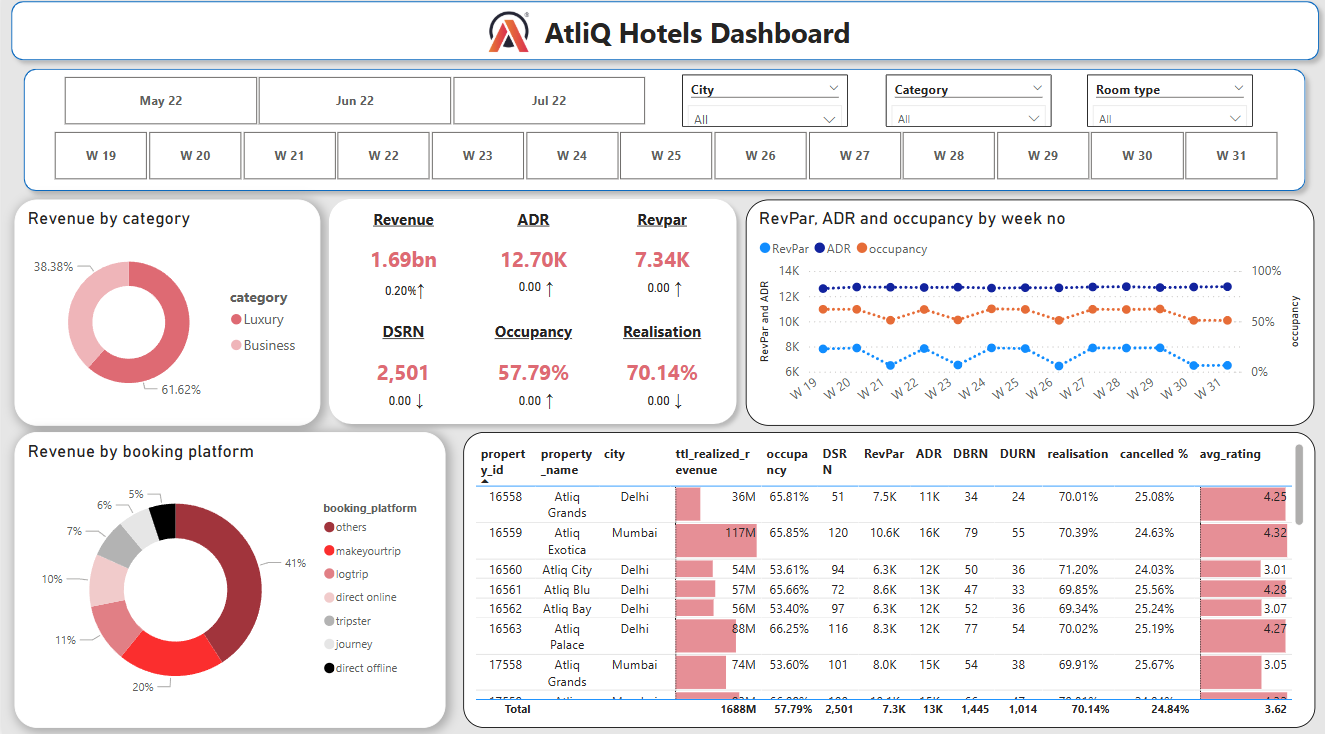

The page's visual inventory and layout, read from the dashboard file:
{"tool":"powerbi","page":{"name":"Page 1","canvas":[1280,720],"ordinal":0},"visuals":[{"type":"shape","box":[0,0,1280,74.8],"z":0},{"type":"shape","box":[12,65.1,1255,136],"z":0,"group":"g2"},{"type":"shape","box":[306.4,191,411.4,235.2],"z":0,"group":"g11"},{"type":"tableEx","fields":{"Values":["dim_hotels.property_id","dim_hotels.property_name","dim_hotels.city","fact_bookings.ttl_realized_revenue","fact_aggregated_bookings.occupancy %","fact_aggregated_bookings.DSRN","fact_bookings.RevPar","fact_bookings.ADR","fact_bookings.DBRN","fact_bookings.DURN","fact_bookings.realisation %","fact_bookings.cancelled %"]},"box":[445.2,425,822.8,285.9],"z":1000},{"type":"group","id":"g1","title":"Group 4","box":[445.2,12.7,389.6,49.4],"z":2000},{"type":"image","box":[445.2,12.7,88.3,49.4],"z":3000,"group":"g1"},{"type":"group","id":"g2","title":"Group 3","box":[12,65.1,1255.9,135.1],"z":3000},{"type":"slicer","fields":{"Values":["dim_hotels.city"]},"box":[656.5,80.1,160,50],"z":4000,"group":"g2"},{"type":"donutChart","title":"Revenue by category","fields":{"Y":["fact_bookings.ttl_realized_revenue"],"Category":["dim_hotels.category"]},"box":[11.7,200,295,218.3],"z":4000},{"type":"textbox","box":[523.7,20.3,311.1,35.8],"z":4001,"group":"g1"},{"type":"slicer","fields":{"Values":["dim_hotels.category"]},"box":[852.5,80.1,160,50],"z":5000,"group":"g2"},{"type":"card","title":"ADR","fields":{"Values":["fact_bookings.ADR"]},"box":[454.5,208.9,116.1,87.2],"z":5000,"group":"g15"},{"type":"card","title":"Revenue","fields":{"Values":["fact_bookings.ttl_realized_revenue"]},"box":[329.2,209.1,116.3,87.2],"z":5000,"group":"g9"},{"type":"card","title":"Revpar","fields":{"Values":["fact_bookings.RevPar"]},"box":[578.9,209.4,116.1,87.2],"z":5000,"group":"g10"},{"type":"card","title":"DSRN","fields":{"Values":["fact_aggregated_bookings.DSRN"]},"box":[329.2,317.5,116.1,87.2],"z":5000,"group":"g13"},{"type":"card","title":"Occupancy","fields":{"Values":["fact_aggregated_bookings.occupancy %"]},"box":[454.6,317.5,116.1,87.2],"z":5000,"group":"g14"},{"type":"card","title":"Realisation","fields":{"Values":["fact_bookings.realisation %"]},"box":[578.9,317.5,116.1,87.2],"z":5000,"group":"g16"},{"type":"donutChart","title":"Revenue by booking platform","fields":{"Y":["fact_bookings.ttl_realized_revenue"],"Category":["fact_bookings.booking_platform"]},"box":[12.1,425,416.2,285.9],"z":5000},{"type":"group","id":"g3","title":"Group 2","box":[306.4,191,411.4,235.3],"z":6000},{"type":"group","id":"g4","title":"Group 1","box":[613.6,276.4,43.5,20.2],"z":6000,"group":"g10"},{"type":"group","id":"g5","title":"Group 1","box":[365.1,278.7,43.5,20.2],"z":6000,"group":"g9"},{"type":"group","id":"g6","title":"Group 1","box":[363.9,384.5,43.5,20.2],"z":6000,"group":"g13"},{"type":"group","id":"g7","title":"Group 1","box":[489.3,384.5,43.5,20.2],"z":6000,"group":"g14"},{"type":"group","id":"g8","title":"Group 1","box":[613.6,384.5,43.5,20.2],"z":6000,"group":"g16"},{"type":"group","id":"g9","title":"Group 5","box":[329.2,209.1,116.3,89.8],"z":6002,"group":"g12"},{"type":"slicer","fields":{"Values":["dim_rooms.room_id"]},"box":[1047.5,80.1,160,50],"z":7000,"group":"g2"},{"type":"group","id":"g10","title":"Group 5","box":[578.9,209.4,116.1,87.2],"z":7000,"group":"g12"},{"type":"card","fields":{"Values":["fact_bookings.ADR WoW %"]},"box":[489.2,276.5,39.1,19.7],"z":7000,"group":"g15"},{"type":"card","fields":{"Values":["fact_bookings.RevPar_WoW_%"]},"box":[613.6,277.1,39.1,19.7],"z":7000,"group":"g4"},{"type":"card","fields":{"Values":["fact_bookings.revenue_change_WoW"]},"box":[365.1,279.4,39.1,19.7],"z":7000,"group":"g5"},{"type":"card","fields":{"Values":["fact_aggregated_bookings.DSRN_WoW_%"]},"box":[363.9,385.2,39.1,19.7],"z":7000,"group":"g6"},{"type":"card","fields":{"Values":["fact_aggregated_bookings.occupancy_WoW_%"]},"box":[489.3,385.2,39.1,19.7],"z":7000,"group":"g7"},{"type":"card","fields":{"Values":["fact_bookings.Realisation_WoW_%"]},"box":[613.6,385.2,39.1,19.7],"z":7000,"group":"g8"},{"type":"group","id":"g11","title":"Group 7","box":[306.4,191,411.4,235.2],"z":7001,"group":"g3"},{"type":"lineChart","fields":{"Category":["dim_date.week no"],"Y":["fact_bookings.RevPar","fact_bookings.ADR"],"Y2":["fact_aggregated_bookings.occupancy"]},"box":[717.8,200.3,548.9,218.4],"z":7001},{"type":"group","id":"g12","title":"Group 6","box":[329.2,208.9,365.8,195.8],"z":7001,"group":"g11"},{"type":"slicer","fields":{"Values":["dim_date.mmm yy"]},"box":[39.5,80.1,600,50],"z":8000,"group":"g2"},{"type":"card","fields":{"Values":["fact_bookings.KPI_ADR"]},"box":[523.4,275.9,9.6,20.3],"z":8000,"group":"g15"},{"type":"card","fields":{"Values":["fact_bookings.KPI_RevPar"]},"box":[647.8,276.4,9.6,20.3],"z":8000,"group":"g4"},{"type":"card","fields":{"Values":["fact_aggregated_bookings.KPI"]},"box":[399.3,278.7,9.6,20.3],"z":8000,"group":"g5"},{"type":"group","id":"g13","title":"Group 5","box":[329.2,317.5,116.1,87.2],"z":8000,"group":"g12"},{"type":"card","fields":{"Values":["fact_aggregated_bookings.KPI_DSRN"]},"box":[398.1,384.5,9.6,20.3],"z":8000,"group":"g6"},{"type":"card","fields":{"Values":["fact_aggregated_bookings.KPI_occupancy"]},"box":[523.5,384.5,9.6,20.3],"z":8000,"group":"g7"},{"type":"card","fields":{"Values":["fact_bookings.KPI_realisation"]},"box":[647.8,384.5,9.6,20.3],"z":8000,"group":"g8"},{"type":"slicer","fields":{"Values":["dim_date.week no"]},"box":[29.5,133.1,1220,50],"z":9000,"group":"g2"},{"type":"group","id":"g14","title":"Group 5","box":[454.6,317.5,116.1,87.2],"z":9000,"group":"g12"},{"type":"group","id":"g15","title":"Group 5","box":[454.5,208.9,116.1,87.3],"z":10000,"group":"g12"},{"type":"group","id":"g16","title":"Group 5","box":[578.9,317.5,116.1,87.2],"z":11000,"group":"g12"}]}

Visuals, with their boxes in screenshot pixels (x1, y1, x2, y2), scaled from the page's 1280x720 canvas onto the 1325x734 screenshot:
shape: Rect(0, 0, 1324, 76)
shape: Rect(12, 66, 1312, 205)
shape: Rect(317, 195, 743, 434)
tableEx - dim_hotels.property_id x dim_hotels.property_name: Rect(461, 433, 1313, 725)
"Group 4" group: Rect(461, 13, 864, 63)
image: Rect(461, 13, 552, 63)
"Group 3" group: Rect(12, 66, 1312, 204)
slicer - dim_hotels.city: Rect(680, 82, 845, 133)
"Revenue by category" donutChart: Rect(12, 204, 317, 426)
textbox: Rect(542, 21, 864, 57)
slicer - dim_hotels.category: Rect(882, 82, 1048, 133)
"ADR" card: Rect(470, 213, 591, 302)
"Revenue" card: Rect(341, 213, 461, 302)
"Revpar" card: Rect(599, 213, 719, 302)
"DSRN" card: Rect(341, 324, 461, 413)
"Occupancy" card: Rect(471, 324, 591, 413)
"Realisation" card: Rect(599, 324, 719, 413)
"Revenue by booking platform" donutChart: Rect(13, 433, 443, 725)
"Group 2" group: Rect(317, 195, 743, 435)
"Group 1" group: Rect(635, 282, 680, 302)
"Group 1" group: Rect(378, 284, 423, 305)
"Group 1" group: Rect(377, 392, 422, 413)
"Group 1" group: Rect(507, 392, 552, 413)
"Group 1" group: Rect(635, 392, 680, 413)
"Group 5" group: Rect(341, 213, 461, 305)
slicer - dim_rooms.room_id: Rect(1084, 82, 1250, 133)
"Group 5" group: Rect(599, 213, 719, 302)
card - fact_bookings.ADR WoW %: Rect(506, 282, 547, 302)
card - fact_bookings.RevPar_WoW_%: Rect(635, 282, 676, 303)
card - fact_bookings.revenue_change_WoW: Rect(378, 285, 418, 305)
card - fact_aggregated_bookings.DSRN_WoW_%: Rect(377, 393, 417, 413)
card - fact_aggregated_bookings.occupancy_WoW_%: Rect(507, 393, 547, 413)
card - fact_bookings.Realisation_WoW_%: Rect(635, 393, 676, 413)
"Group 7" group: Rect(317, 195, 743, 434)
lineChart - dim_date.week no x fact_bookings.RevPar: Rect(743, 204, 1311, 427)
"Group 6" group: Rect(341, 213, 719, 413)
slicer - dim_date.mmm yy: Rect(41, 82, 662, 133)
card - fact_bookings.KPI_ADR: Rect(542, 281, 552, 302)
card - fact_bookings.KPI_RevPar: Rect(671, 282, 681, 302)
card - fact_aggregated_bookings.KPI: Rect(413, 284, 423, 305)
"Group 5" group: Rect(341, 324, 461, 413)
card - fact_aggregated_bookings.KPI_DSRN: Rect(412, 392, 422, 413)
card - fact_aggregated_bookings.KPI_occupancy: Rect(542, 392, 552, 413)
card - fact_bookings.KPI_realisation: Rect(671, 392, 681, 413)
slicer - dim_date.week no: Rect(31, 136, 1293, 187)
"Group 5" group: Rect(471, 324, 591, 413)
"Group 5" group: Rect(470, 213, 591, 302)
"Group 5" group: Rect(599, 324, 719, 413)
